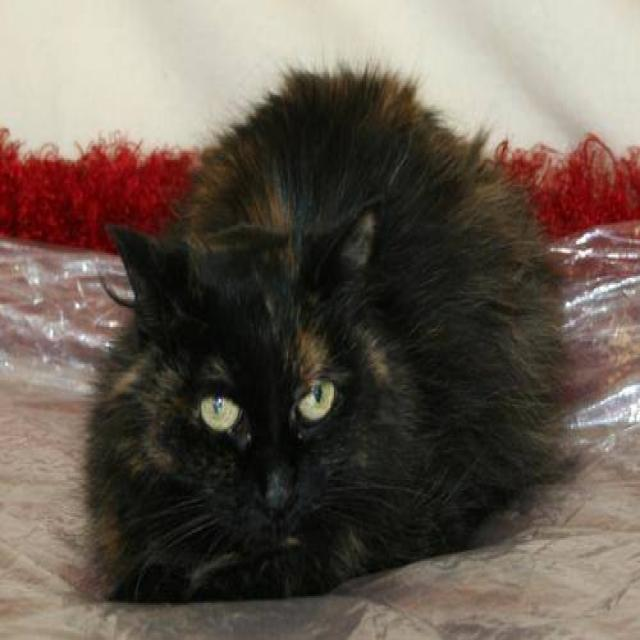cat: (76, 58, 581, 605)
